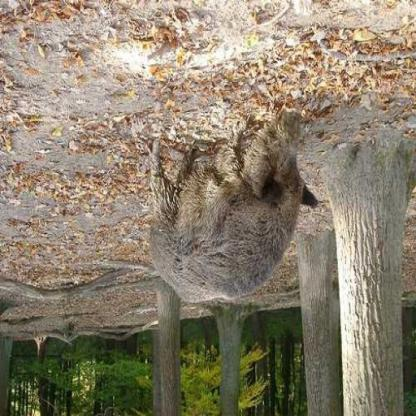boar: (90, 113, 303, 343)
